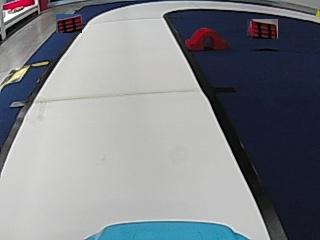bridge: (186, 25, 228, 51)
